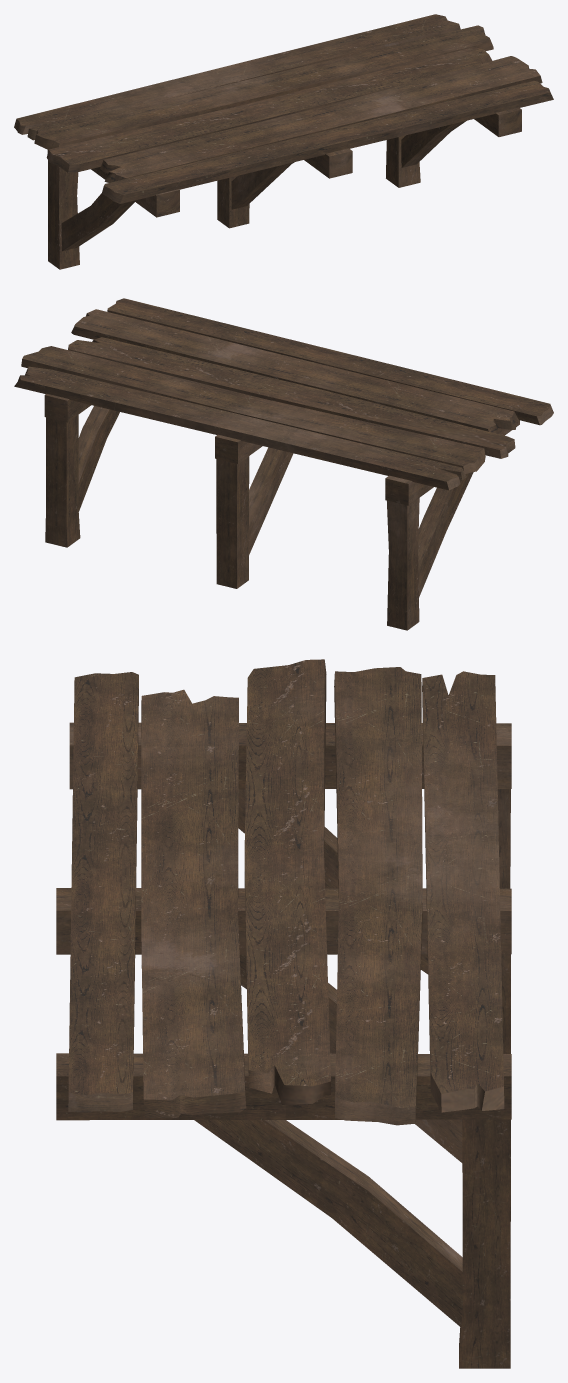
The model's file is SM_Scaffolding_02.fbx.
The picture shows the model from 3 angles, top to bottom: view 1: azimuth 30°, elevation 25°; view 2: azimuth 150°, elevation 25°; view 3: azimuth 270°, elevation 25°; orthographic projection. The views are drawn at different scales.
Parts seen in each view (by area): view 1: SM_Scaffolding_02_LOD0; view 2: SM_Scaffolding_02_LOD0; view 3: SM_Scaffolding_02_LOD0.
Boxes of the visible parts, bbox=[...] form: SM_Scaffolding_02_LOD0: bbox=[14, 14, 553, 269]; SM_Scaffolding_02_LOD0: bbox=[14, 298, 553, 630]; SM_Scaffolding_02_LOD0: bbox=[56, 659, 511, 1368].
Size of what is drawn, in the model's own units: 389 by 127 by 167.
